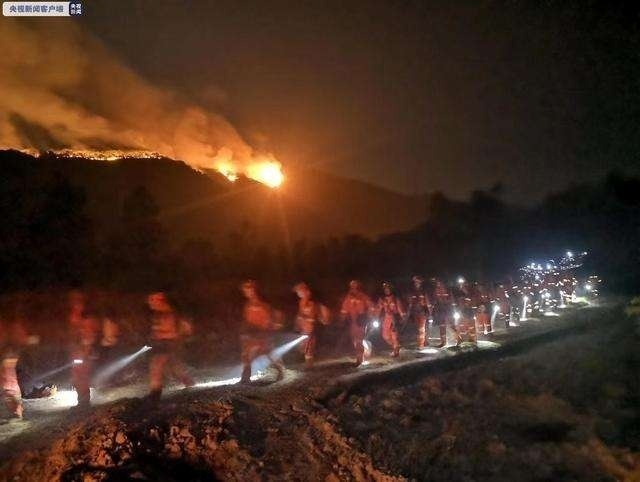fire: (216, 153, 287, 189)
